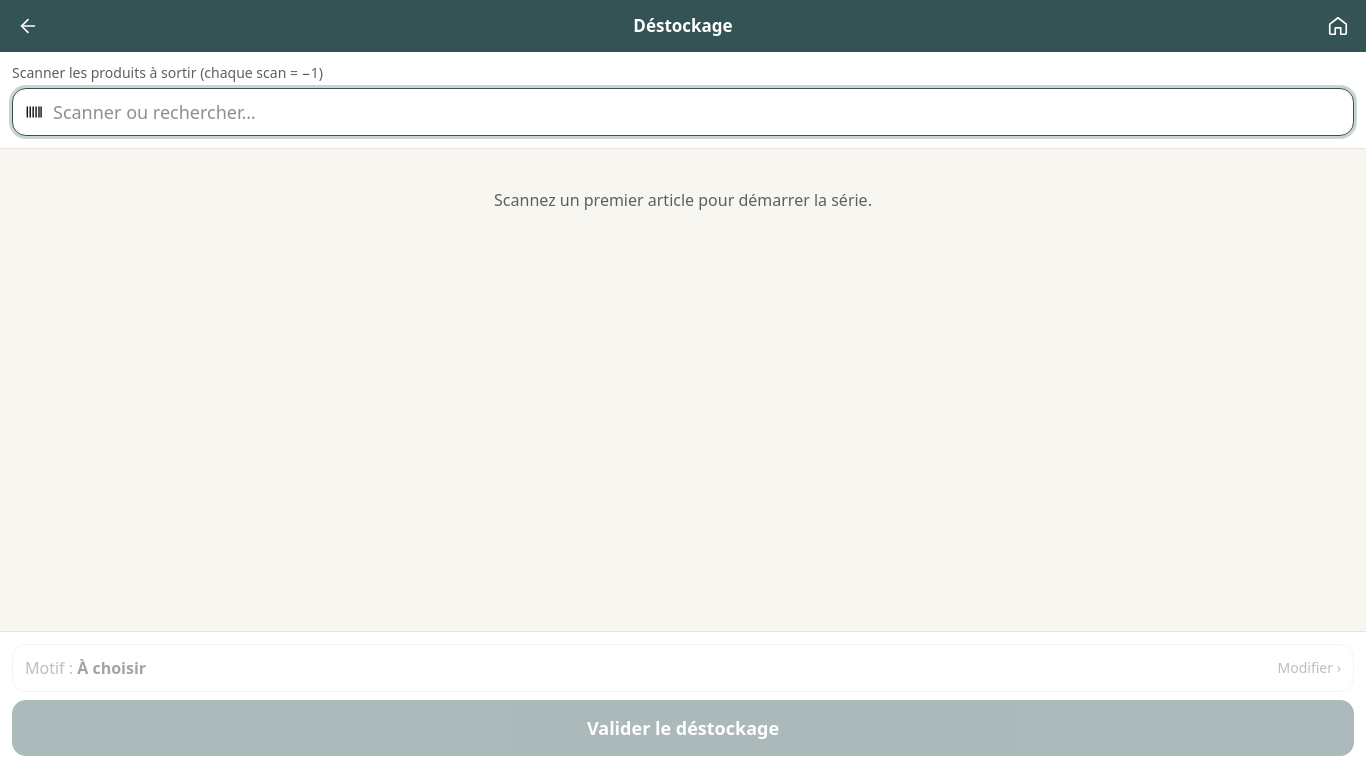
Scenario: Déstockage — validation et code de série › affiche le code de série renvoyé par le serveur et vide le panier
The image size is (1366, 768).
Type "4002477692890" into the field with placeholder "Scanner ou rechercher…" at (683, 112), box [12,88,1354,136]
Wait 400 ms
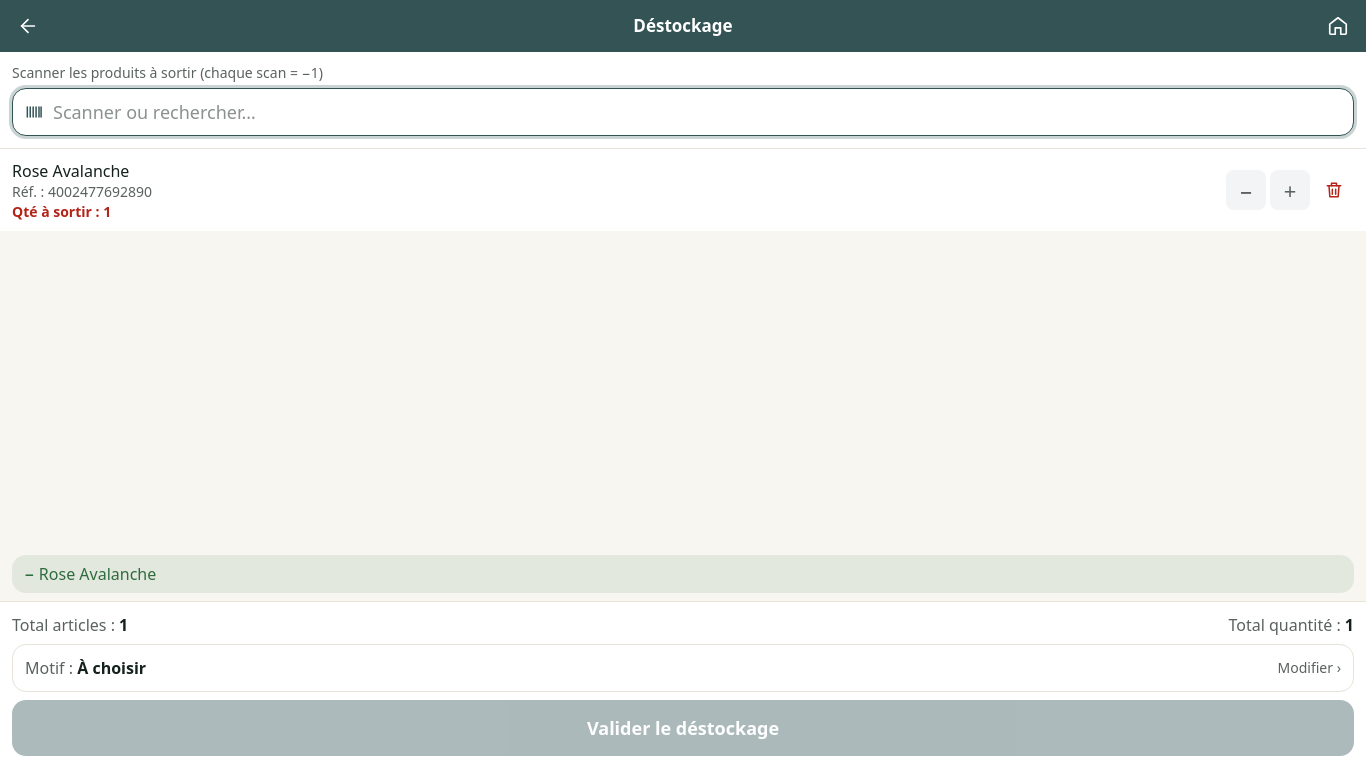
Click the button "Motif : À choisir Modifier ›" at (51, 668), box [12,644,1354,692]
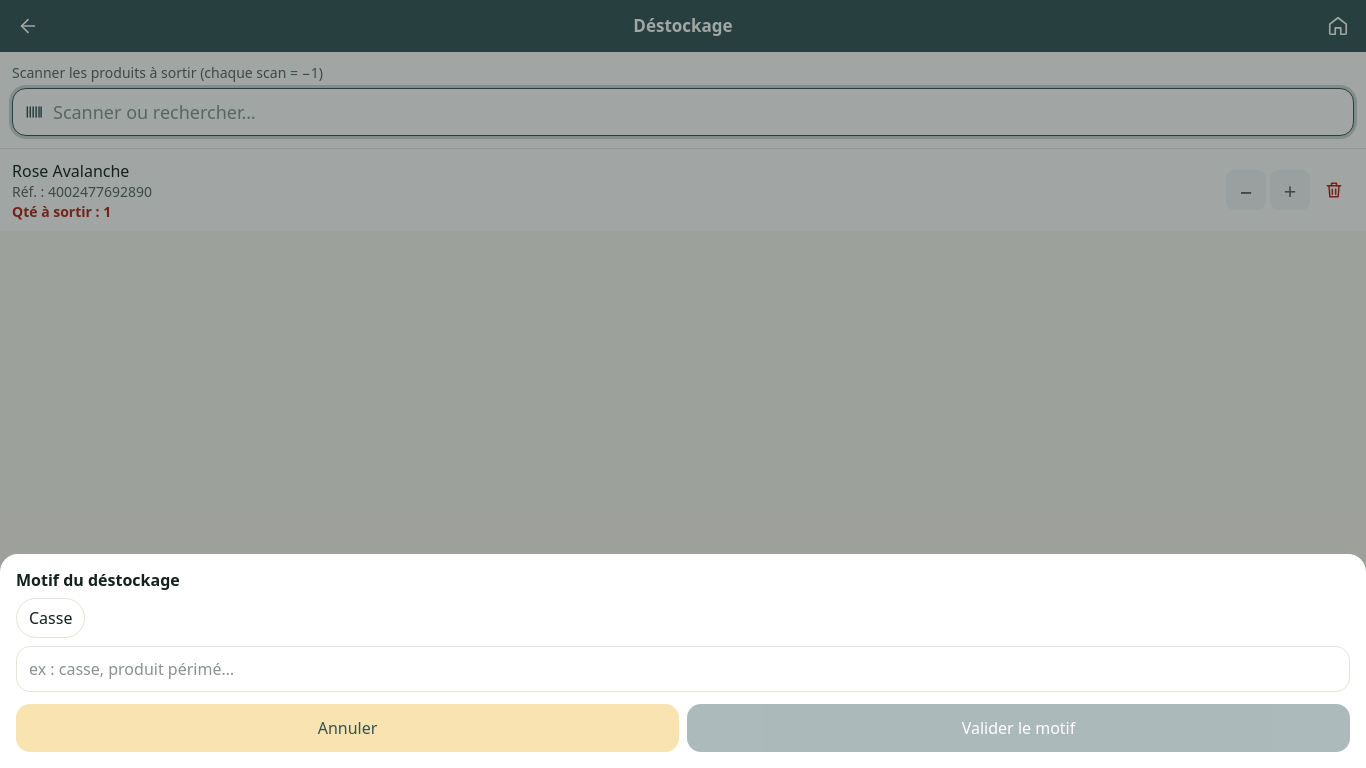
Click the button "Casse" at (51, 618), box [16,598,86,638]
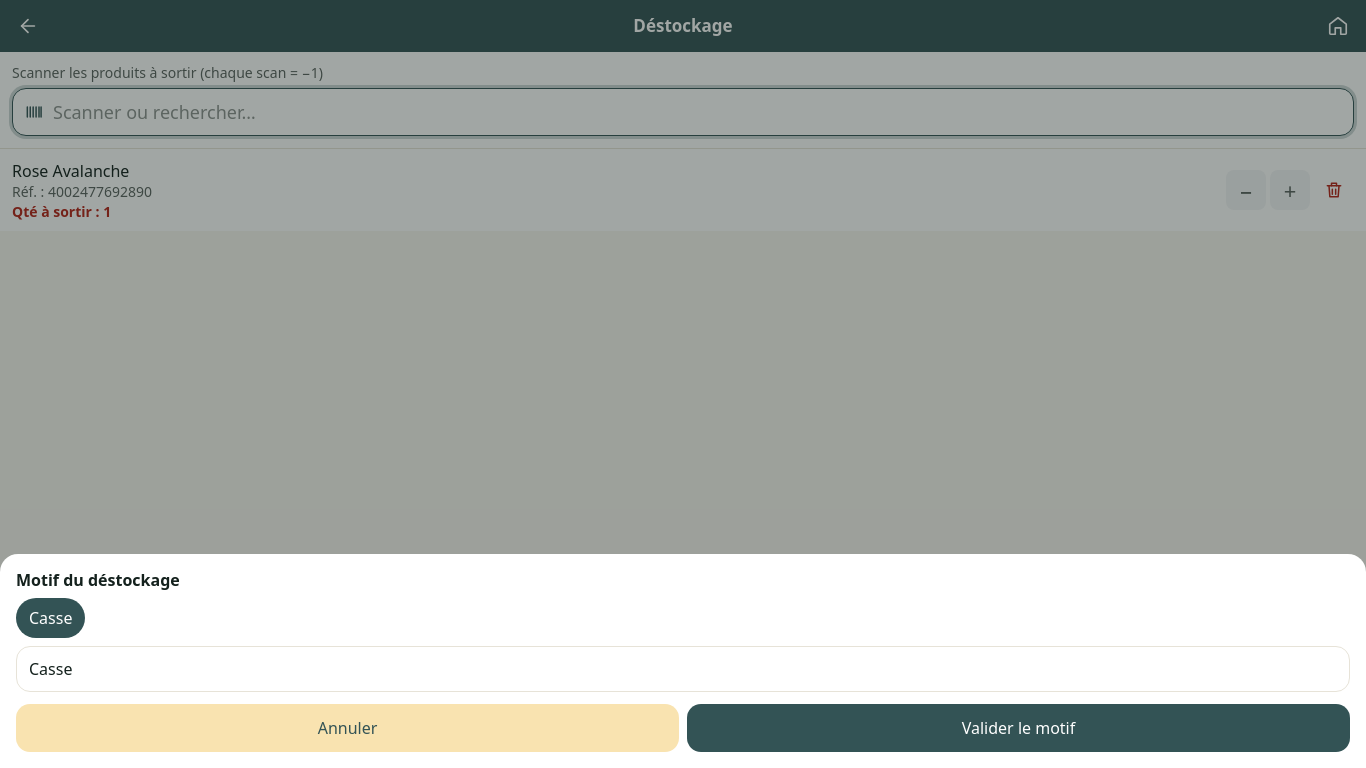
Click the button "Valider le motif" at (1018, 728), box [687,704,1350,752]
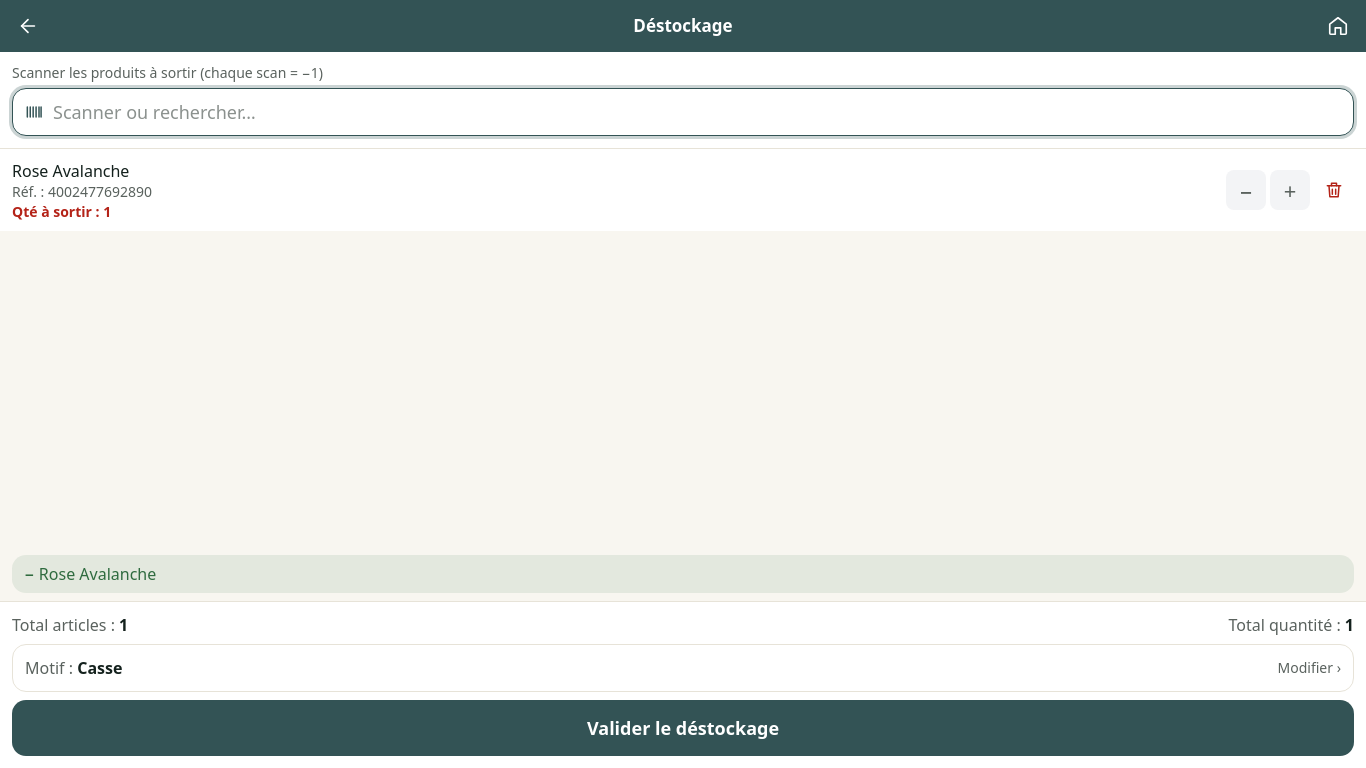
Click the button "Valider le déstockage" at (683, 728), box [12,700,1354,756]
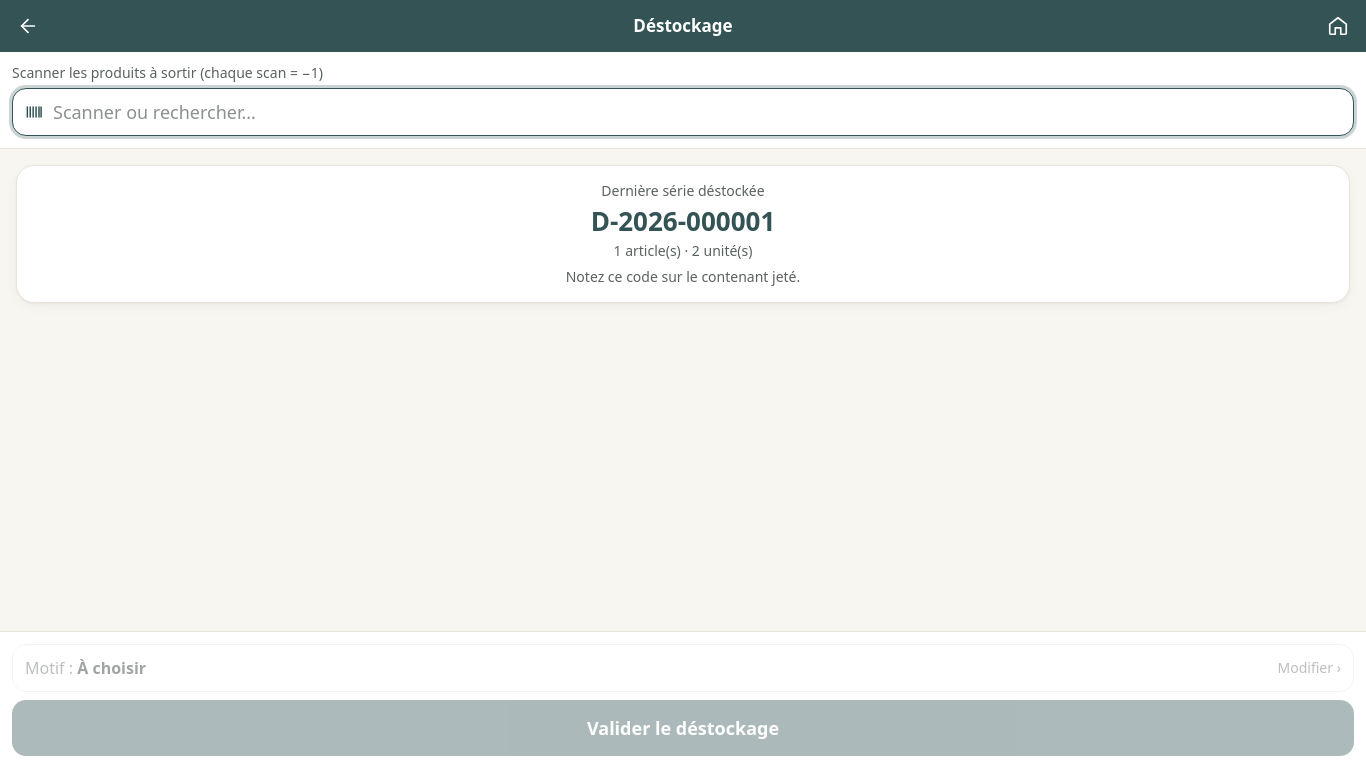
Expected: the text "D-2026-000001" is shown, [591,203,775,239]
